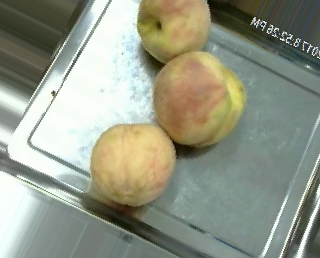Peach: (153, 51, 245, 148), (88, 121, 174, 206), (135, 0, 212, 63)
